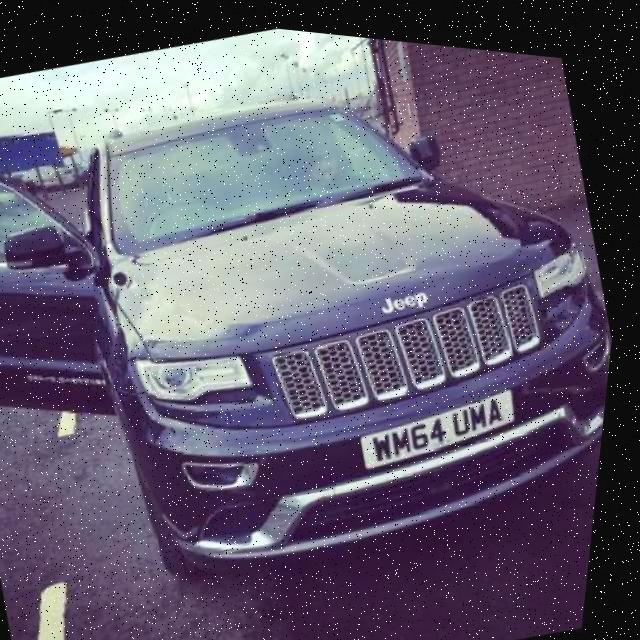license_plate: (361, 364, 533, 472)
